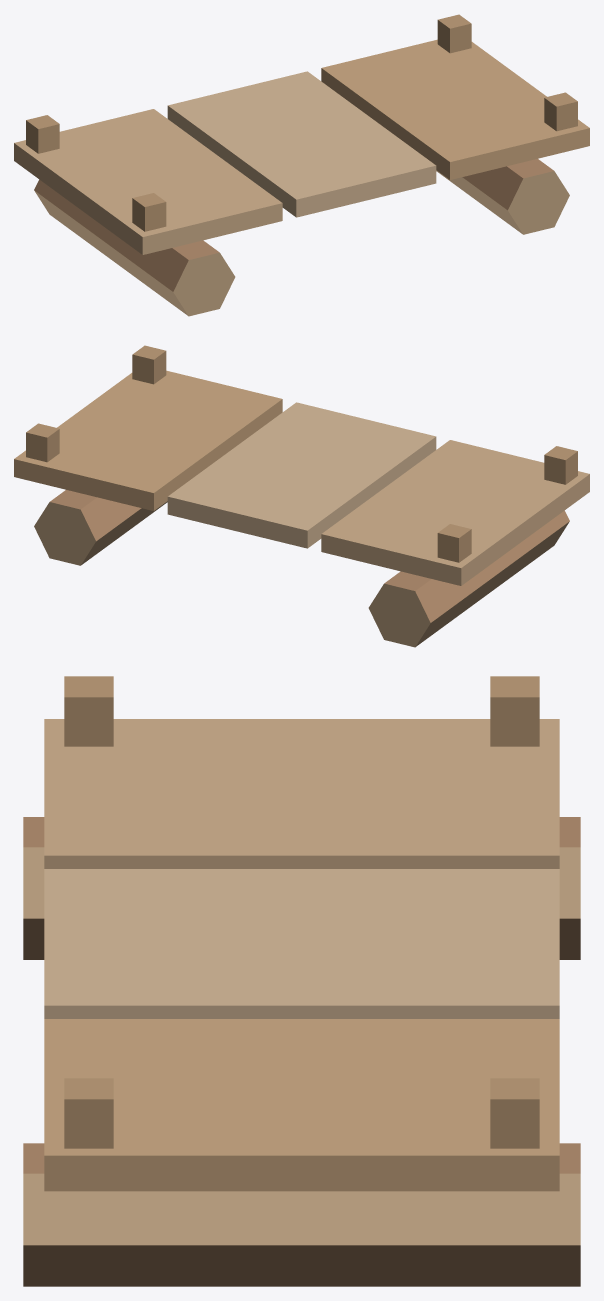
3 views of the same model, one above another, from view 1: azimuth 30°, elevation 25°; view 2: azimuth 150°, elevation 25°; view 3: azimuth 270°, elevation 25° (orthographic). The views are drawn at different scales.
Visible parts, largest first — view 1: world; view 2: world; view 3: world.
Boxes of the visible parts, box(x1,y1,x2,y2) form: world: box(14, 14, 589, 316); world: box(14, 345, 589, 647); world: box(23, 676, 580, 1286).
Size of the model in its own units: 4.17 by 0.9811 by 2.25.
